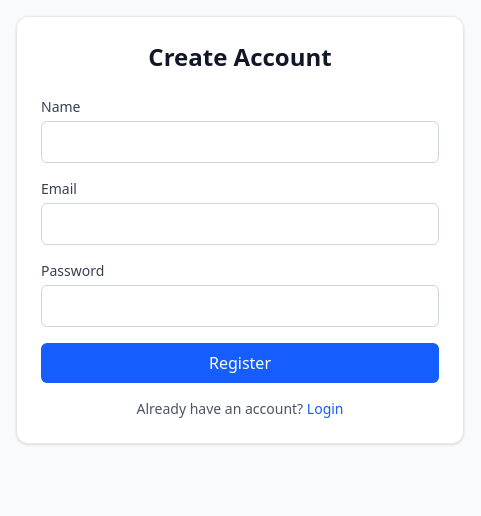
Test: RegisterPage › failed registration › clears the old error when the user submits again
The image size is (481, 516).
In the field below "Name": (240, 142) [41, 121, 439, 163], type "Test User"
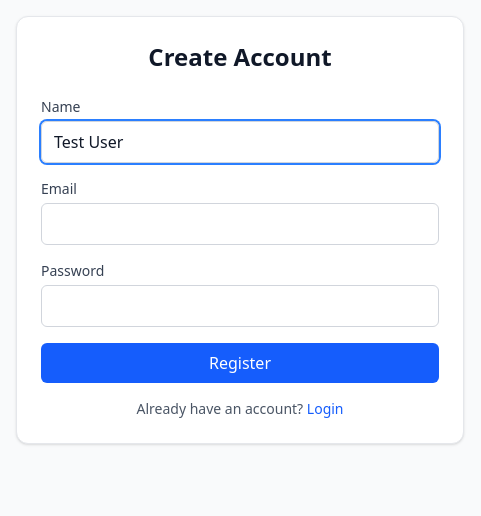
In the field below "Email": (240, 224) [41, 203, 439, 245], type "test@example.com"
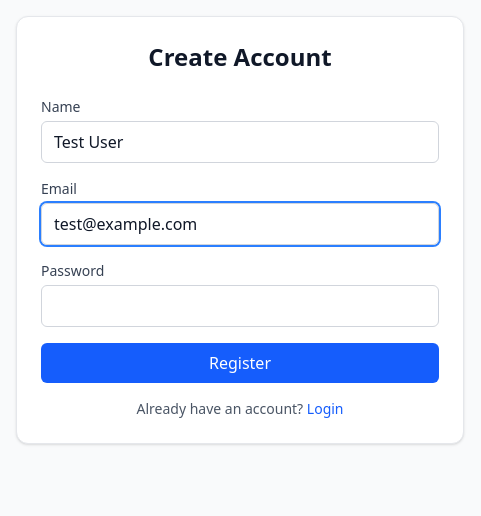
In the password field: (240, 306) [41, 285, 439, 327], type "secret123"
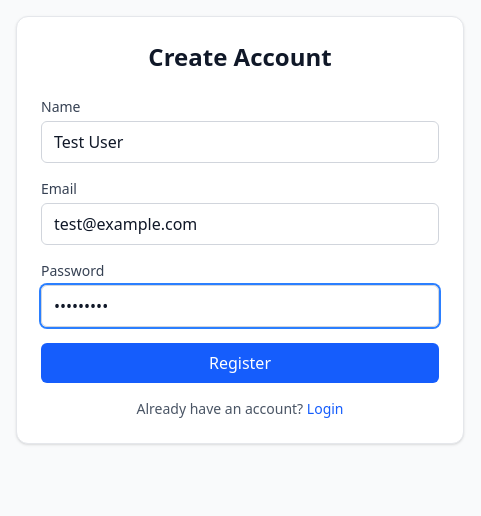
Click the button "Register": click(240, 363) [41, 343, 439, 383]
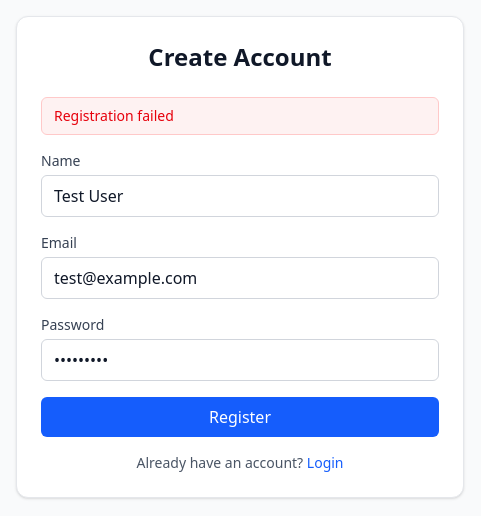
Now the text "Registration failed" is shown, box [41, 97, 439, 135]
Click the button "Register": click(240, 417) [41, 397, 439, 437]
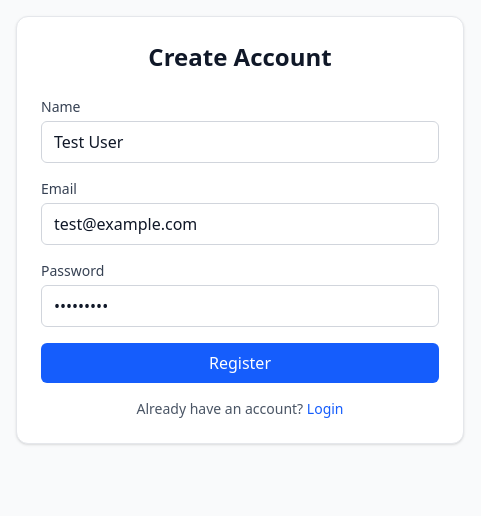
Now the text "Registration failed" is gone
